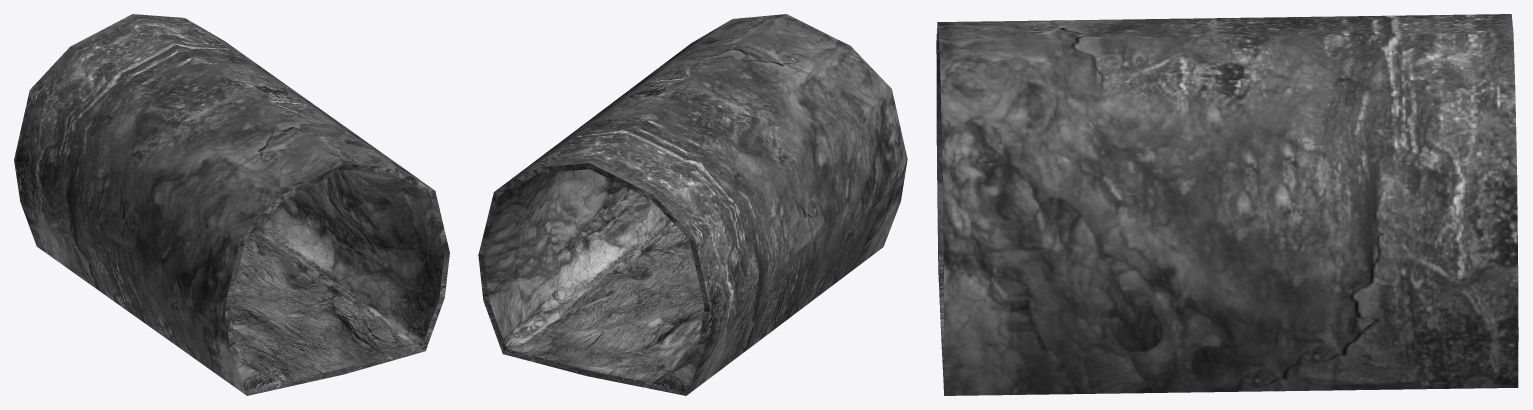
Rendered from cavecorridor3.fbx.
3 views of the same model, side by side, from view 1: azimuth 30°, elevation 25°; view 2: azimuth 150°, elevation 25°; view 3: azimuth 270°, elevation 25° (orthographic). The views are drawn at different scales.
Parts seen in each view (by area): view 1: cavecorridor3; view 2: cavecorridor3; view 3: cavecorridor3.
Part boxes in pixels (x1,y1,x2,y2): cavecorridor3: (14,14,449,395); cavecorridor3: (478,14,907,395); cavecorridor3: (936,14,1518,395).
Size of the model in its own units: 105 by 91.67 by 160.
Materials: 1 (1 with a texture image).
